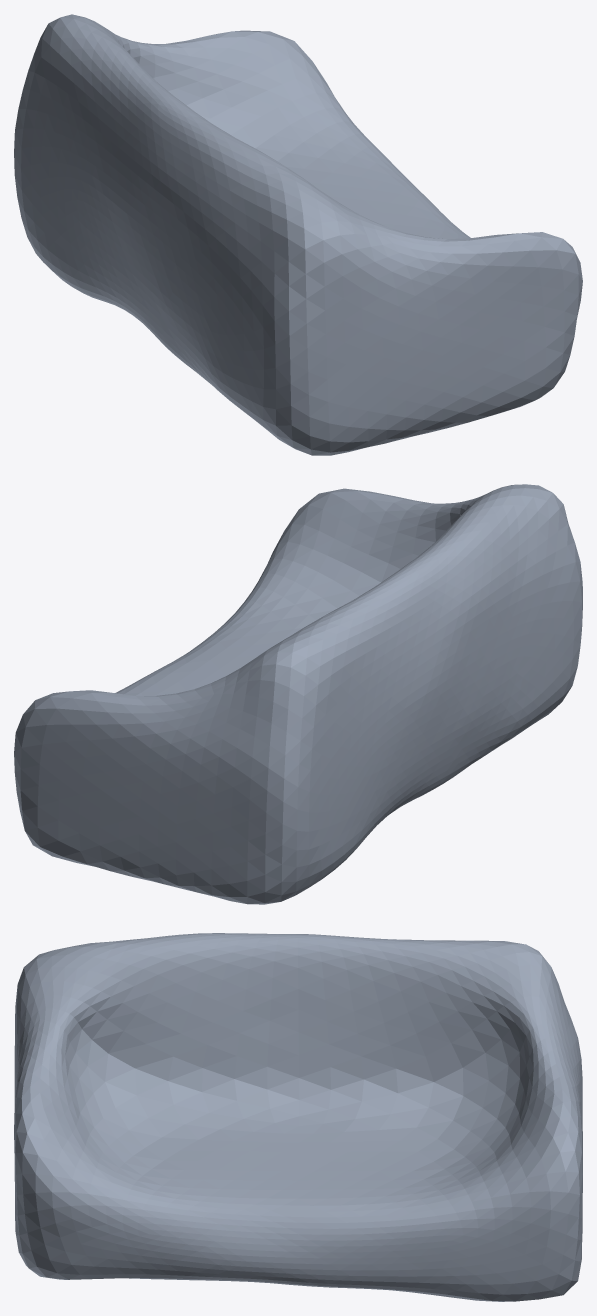
Rendered from Sofa_Elec.glb.
3 views of the same model, one above another, from view 1: azimuth 30°, elevation 25°; view 2: azimuth 150°, elevation 25°; view 3: azimuth 270°, elevation 25° (orthographic). The views are drawn at different scales.
Parts seen in each view (by area): view 1: 0.01; view 2: 0.01; view 3: 0.01.
Boxes of the visible parts, bbox=[...] form: 0.01: bbox=[14, 14, 582, 455]; 0.01: bbox=[14, 484, 582, 904]; 0.01: bbox=[14, 933, 582, 1301].
Bounding box in the file's own units: 15.29 × 12.05 × 24.89.
